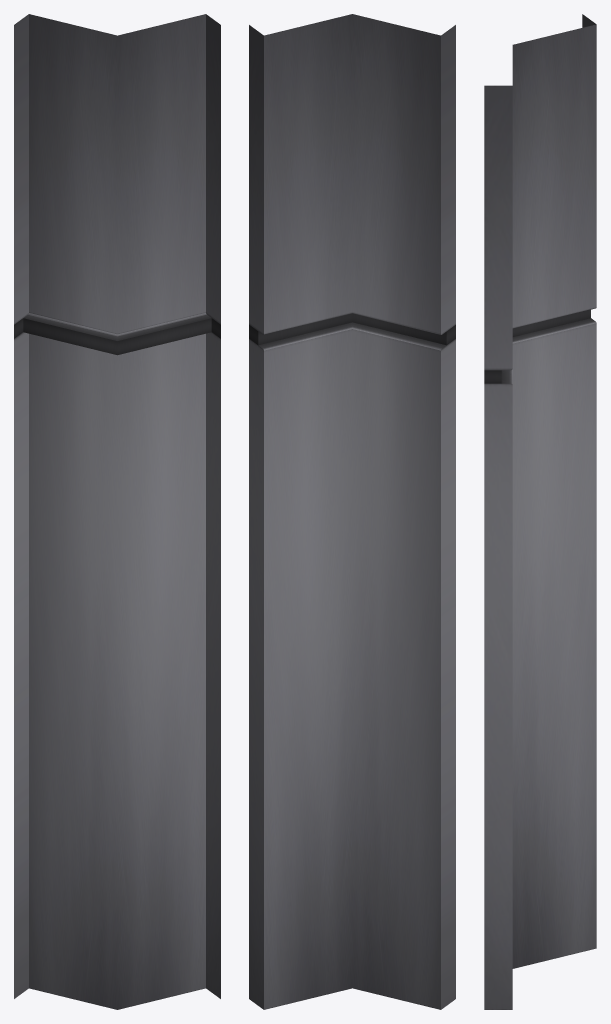
Rendered from OBT_MIN_HB.fbx.
3 renders of one model, left to right at view 1: azimuth 30°, elevation 25°; view 2: azimuth 210°, elevation 25°; view 3: azimuth 270°, elevation 25°, orthographic. The views are drawn at different scales.
Visible parts, largest first — view 1: OBT_MIN_HB; view 2: OBT_MIN_HB; view 3: OBT_MIN_HB.
Part boxes in pixels (bbox=[...]): OBT_MIN_HB: bbox=[14, 14, 220, 1009]; OBT_MIN_HB: bbox=[249, 14, 455, 1009]; OBT_MIN_HB: bbox=[484, 14, 596, 1009].
Size of the model in its own units: 0.75 by 4.5 by 0.4955.
